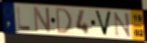4: (75, 9, 92, 37)
D: (55, 7, 73, 35)
L: (16, 6, 32, 31)
N: (113, 11, 133, 38), (33, 6, 52, 34)
V: (94, 10, 113, 38)
